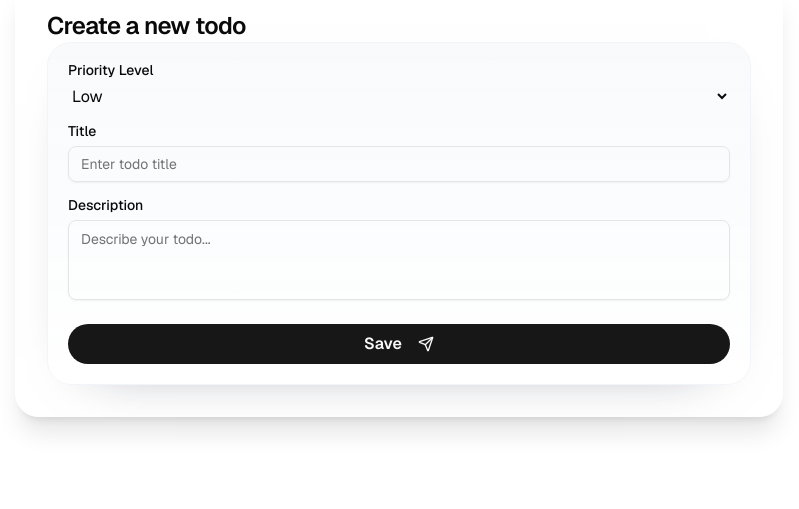
FormTodo › shows validation error if title is left blank
Click the button "Save".
click(399, 344)  # box [68,324,730,364]
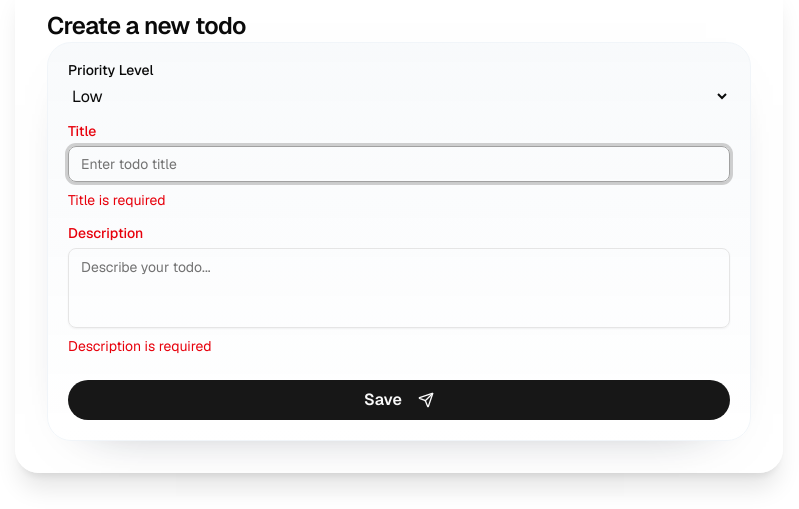
expect the text "Title is required" is shown: met, box [68,191,166,209]
